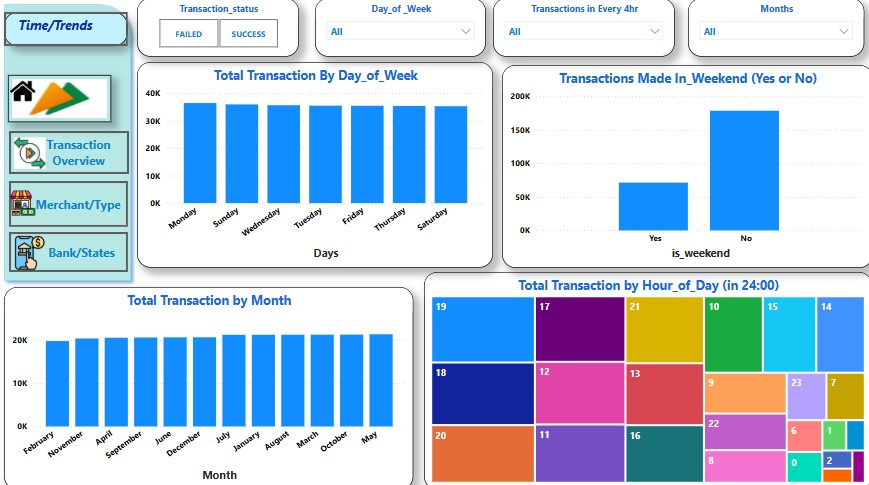

The dashboard page shown, as its layout file describes it:
{"tool":"powerbi","page":{"name":"Time Trends","canvas":[1280,720],"ordinal":2},"visuals":[{"type":"treemap","title":"Total Transaction by Hour_of_Day (in 24:00)","fields":{"Group":["Upi.hour_of_day"],"Values":["CountNonNull(Upi.transaction id)"]},"box":[623.4,401,655.6,319],"z":0},{"type":"columnChart","title":"Total Transaction By Day_of_Week","fields":{"Category":["Upi.day_of_week"],"Y":["CountNonNull(Upi.transaction id)"]},"box":[203.4,93.7,521,301.5],"z":1000},{"type":"columnChart","title":"Transactions Made In_Weekend (Yes or No)","fields":{"Category":["Upi.is_weekend"],"Y":["CountNonNull(Upi.transaction id)"]},"box":[737.6,98,542.9,297.1],"z":2000},{"type":"columnChart","title":"Total Transaction by Month","fields":{"Y":["CountNonNull(Upi.transaction id)"],"Category":["Upi.timestamp.Variation.Date Hierarchy.Month"]},"box":[8.8,422.9,598.5,297.1],"z":3000},{"type":"slicer","title":"Transaction_status","fields":{"Values":["Upi.transaction_status"]},"box":[203.4,0,237.1,86.3],"z":4000},{"type":"slicer","title":"Day_of _Week","fields":{"Values":["Upi.day_of_week"]},"box":[463.9,0,250.2,86.3],"z":5000},{"type":"shape","box":[0,0,203.4,422.9],"z":6000},{"type":"slicer","title":"Months","fields":{"Values":["Upi.timestamp.Variation.Date Hierarchy.Month"]},"box":[1009.8,0,257.6,86.3],"z":7000},{"type":"slicer","title":"Transactions in Every 4hr","fields":{"Values":["Upi.hour_of_day (groups)"]},"box":[724.4,0,266.3,86.3],"z":8000},{"type":"actionButton","box":[16.1,342.4,174.1,58.5],"z":9000},{"type":"actionButton","title":"Marchant","box":[16.1,267.8,174.1,67.3],"z":10000},{"type":"image","box":[8.8,276.6,54.1,46.8],"z":11000},{"type":"image","box":[16.1,323.4,61.5,99.5],"z":12000},{"type":"actionButton","box":[16.1,194.6,175.6,62.9],"z":13000},{"type":"image","box":[14.6,199,64.4,55.6],"z":14000},{"type":"image","box":[14.6,112.7,150.7,68.8],"z":15000},{"type":"textbox","box":[8.8,20.5,181.5,49.8],"z":16000},{"type":"actionButton","box":[8.8,20.5,181.5,49.8],"z":17000},{"type":"image","box":[11.7,112.7,48.3,46.8],"z":18000}]}

Visuals, with their boxes on the page's 1280x720 design canvas (x1, y1, x2, y2). These are canvas units, not pixel positions in the 869x485 screenshot, which may show the page scaled, cropped or inside an application window:
"Total Transaction by Hour_of_Day (in 24:00)" treemap: (left=623, top=401, right=1279, bottom=720)
"Total Transaction By Day_of_Week" columnChart: (left=203, top=94, right=724, bottom=395)
"Transactions Made In_Weekend (Yes or No)" columnChart: (left=738, top=98, right=1280, bottom=395)
"Total Transaction by Month" columnChart: (left=9, top=423, right=607, bottom=720)
"Transaction_status" slicer: (left=203, top=0, right=440, bottom=86)
"Day_of _Week" slicer: (left=464, top=0, right=714, bottom=86)
shape: (left=0, top=0, right=203, bottom=423)
"Months" slicer: (left=1010, top=0, right=1267, bottom=86)
"Transactions in Every 4hr" slicer: (left=724, top=0, right=991, bottom=86)
actionButton: (left=16, top=342, right=190, bottom=401)
"Marchant" actionButton: (left=16, top=268, right=190, bottom=335)
image: (left=9, top=277, right=63, bottom=323)
image: (left=16, top=323, right=78, bottom=423)
actionButton: (left=16, top=195, right=192, bottom=258)
image: (left=15, top=199, right=79, bottom=255)
image: (left=15, top=113, right=165, bottom=182)
textbox: (left=9, top=20, right=190, bottom=70)
actionButton: (left=9, top=20, right=190, bottom=70)
image: (left=12, top=113, right=60, bottom=160)
